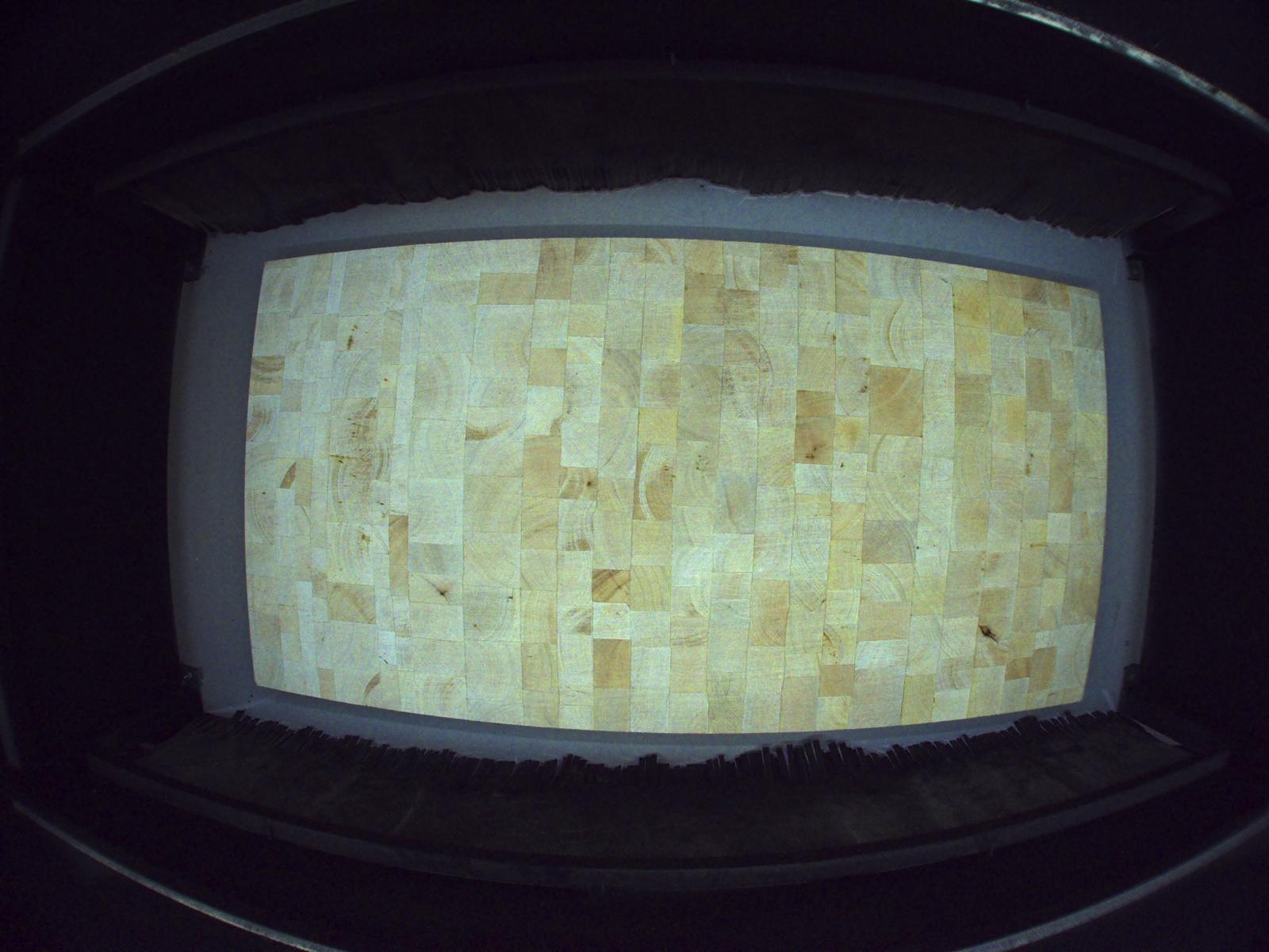nudillo: (978, 623, 997, 639)
